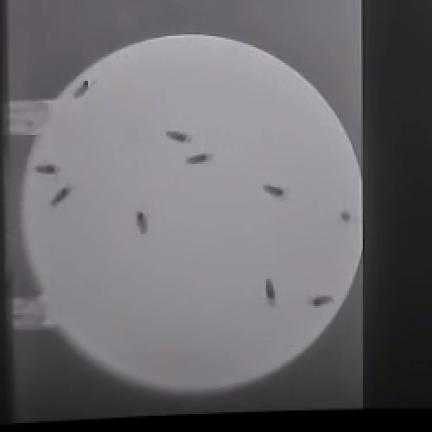fly: (51, 186, 72, 206), (263, 184, 286, 197), (75, 80, 91, 98), (166, 132, 191, 142), (187, 153, 212, 163), (137, 211, 148, 233), (267, 279, 276, 305), (312, 296, 333, 307), (35, 164, 58, 174), (341, 211, 350, 223)
